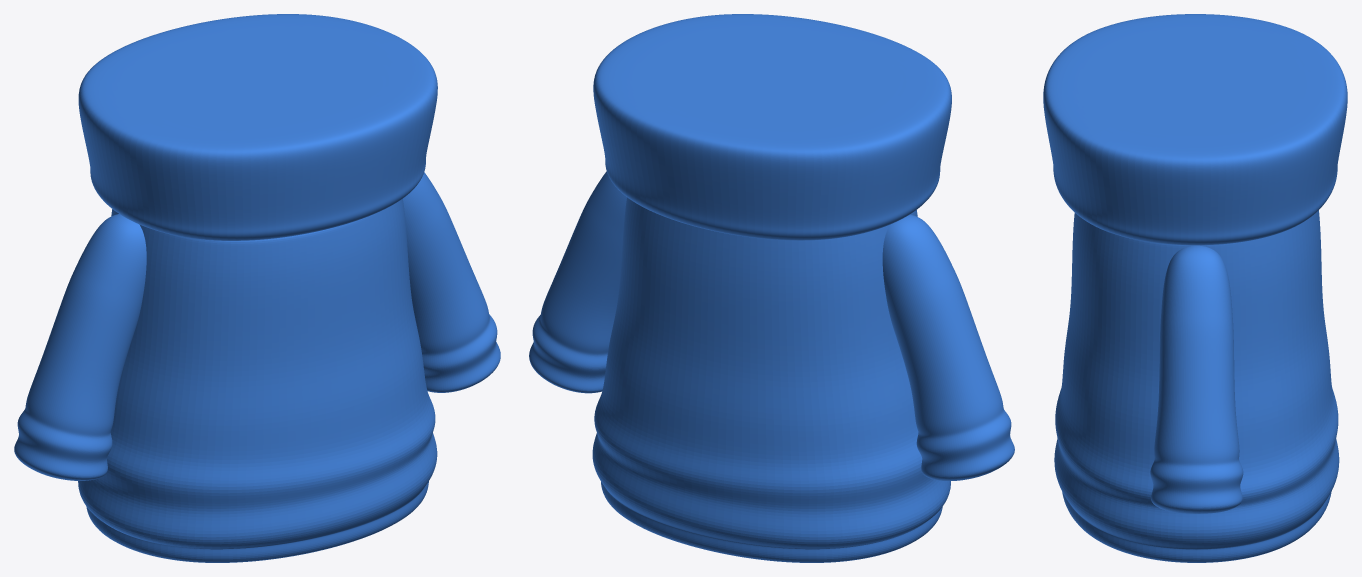
File: CAMISETA_6_H.glb
The picture shows the model from 3 angles, left to right: view 1: azimuth 30°, elevation 25°; view 2: azimuth 150°, elevation 25°; view 3: azimuth 270°, elevation 25°; orthographic projection. The views are drawn at different scales.
Parts seen in each view (by area): view 1: Cube.098, Cube.091, Cube.100; view 2: Cube.098, Cube.091, Cube.100; view 3: Cube.098, Cube.091, Cube.100.
Part boxes in pixels (bbox=[...]): Cube.098: bbox=[78, 198, 437, 562]; Cube.091: bbox=[78, 14, 437, 240]; Cube.100: bbox=[14, 172, 500, 480]; Cube.098: bbox=[592, 197, 950, 562]; Cube.091: bbox=[593, 14, 951, 240]; Cube.100: bbox=[529, 171, 1014, 480]; Cube.098: bbox=[1054, 210, 1339, 562]; Cube.091: bbox=[1043, 14, 1347, 245]; Cube.100: bbox=[1150, 245, 1243, 513].
Bounding box in the file's own units: 3.26 × 2.78 × 1.87.
